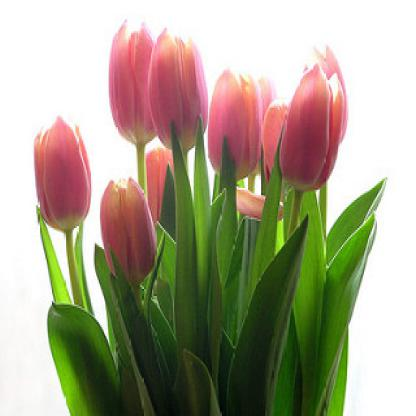TULIP: (15, 11, 378, 384)
